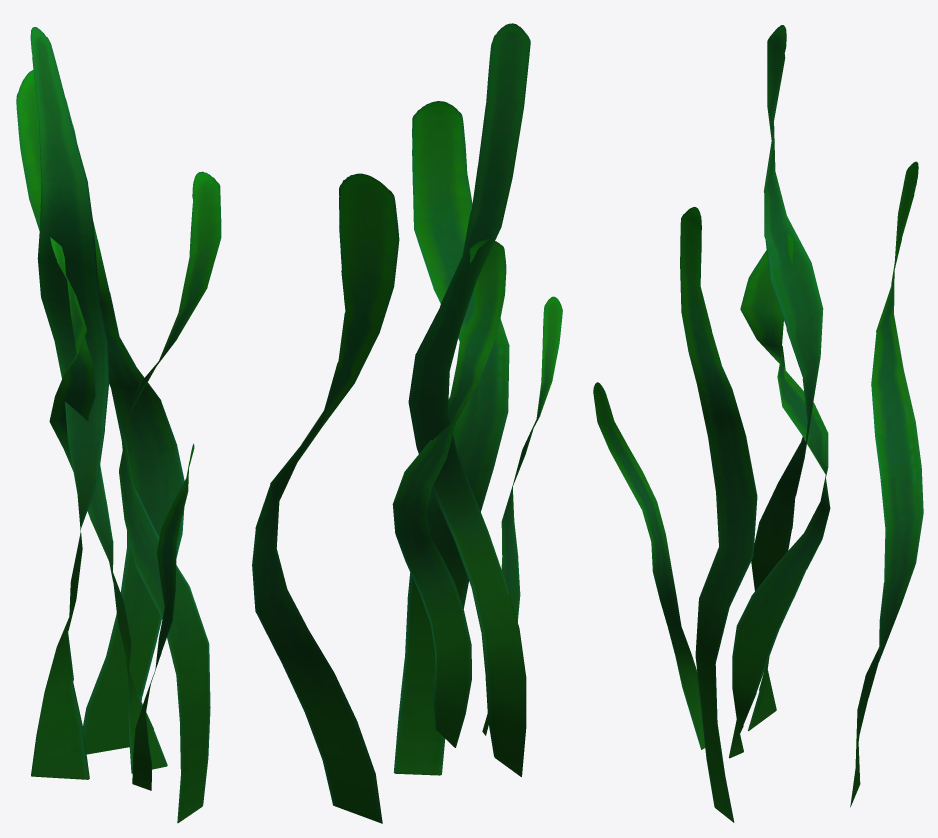
File: eelgrass-tuft.glb
3 views of the same model, side by side, from view 1: azimuth 30°, elevation 25°; view 2: azimuth 150°, elevation 25°; view 3: azimuth 270°, elevation 25° (orthographic). The views are drawn at different scales.
Visible parts, largest first — view 1: pPlane209_0_1__mAquariumPlant; view 2: pPlane209_0_1__mAquariumPlant; view 3: pPlane209_0_1__mAquariumPlant.
Part boxes in pixels (box(x1,y1,x2,y2)): pPlane209_0_1__mAquariumPlant: box(16, 27, 221, 823); pPlane209_0_1__mAquariumPlant: box(252, 23, 562, 823); pPlane209_0_1__mAquariumPlant: box(593, 25, 923, 822).
Bounding box in the file's own units: 0.2797 × 1 × 0.4032.
1 material, 1 textured.
